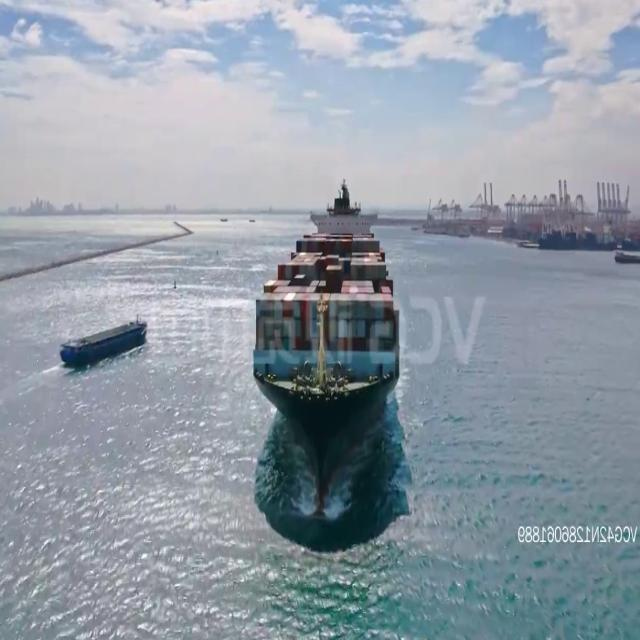cargoship: (252, 170, 398, 506), (61, 306, 146, 377)
